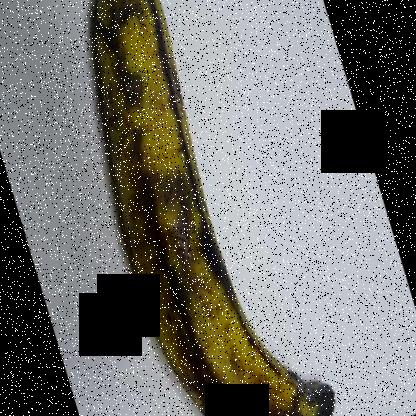overripe: (73, 1, 343, 416)
